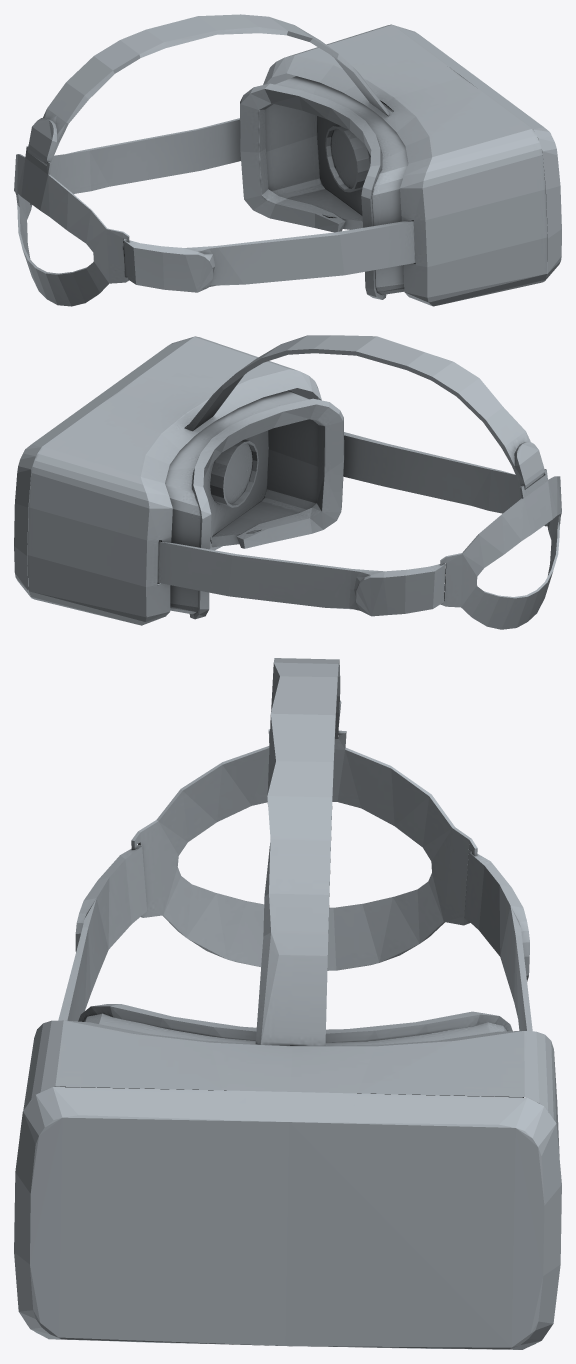
Rendered from vr_headset.glb.
The picture shows the model from 3 angles, top to bottom: view 1: azimuth 30°, elevation 25°; view 2: azimuth 150°, elevation 25°; view 3: azimuth 270°, elevation 25°; orthographic projection. The views are drawn at different scales.
Visible parts, largest first — view 1: VR_Headset; view 2: VR_Headset; view 3: VR_Headset.
Part boxes in pixels (bbox=[...]): VR_Headset: bbox=[14, 14, 561, 306]; VR_Headset: bbox=[14, 335, 561, 629]; VR_Headset: bbox=[14, 658, 561, 1349].
Bounding box in the file's own units: 22.61 × 12.8 × 14.67.
1 material, 1 textured.
